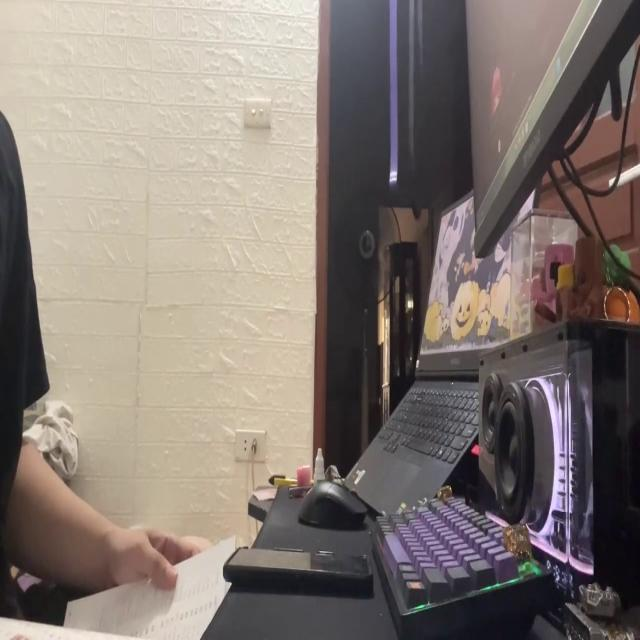book: (0, 539, 234, 640)
laptop: (346, 172, 543, 520), (459, 0, 640, 251)
phone: (219, 536, 374, 603)
student: (0, 112, 207, 598)
